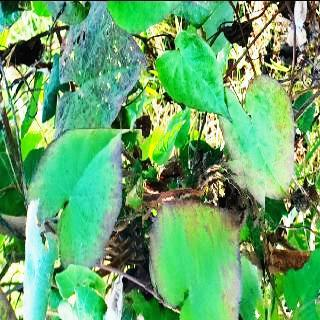leaf spot: (140, 164, 265, 320), (32, 128, 142, 258)
